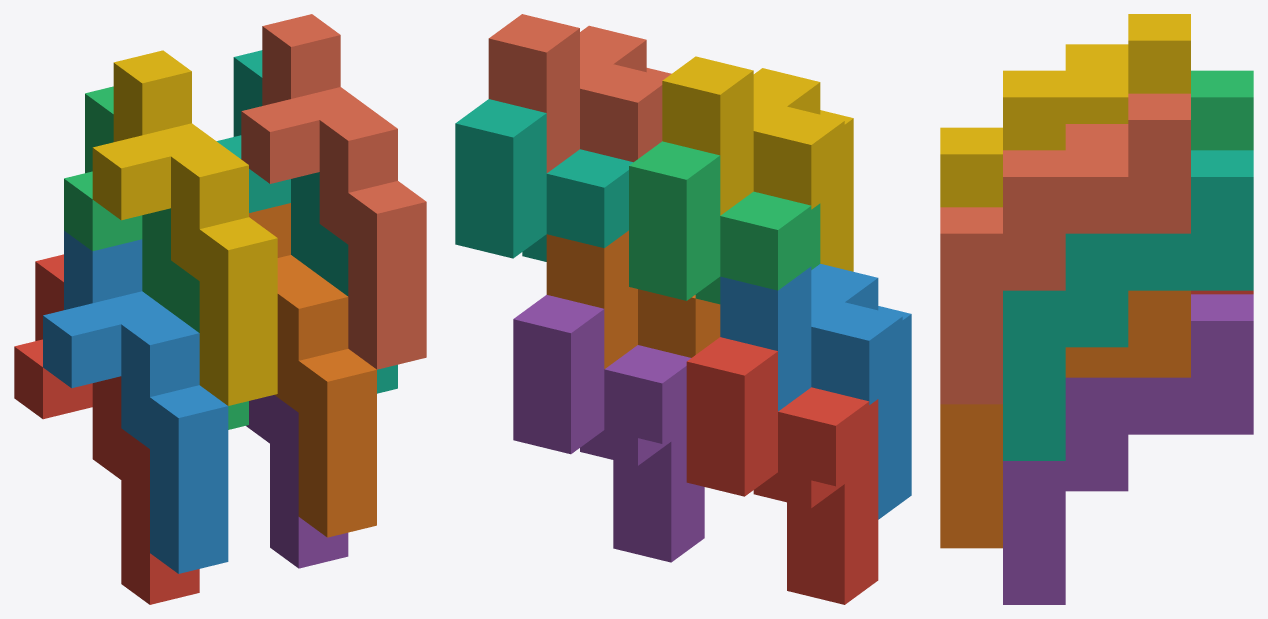
The model's file is tiling.obj.
3 renders of one model, left to right at view 1: azimuth 30°, elevation 25°; view 2: azimuth 150°, elevation 25°; view 3: azimuth 270°, elevation 25°, orthographic. The views are drawn at different scales.
Parts seen in each view (by area): view 1: copy_1_domain_8, copy_1_domain_4, copy_1_domain_2, copy_1_domain_6, copy_1_domain_1, copy_1_domain_3, copy_1_domain_7, copy_1_domain_5; view 2: copy_1_domain_1, copy_1_domain_5, copy_1_domain_4, copy_1_domain_2, copy_1_domain_3, copy_1_domain_7, copy_1_domain_8, copy_1_domain_6; view 3: copy_1_domain_8, copy_1_domain_7, copy_1_domain_5, copy_1_domain_4, copy_1_domain_6, copy_1_domain_3.
Part boxes in pixels (x1,y1,x2,y2): copy_1_domain_8: (241,14,426,369); copy_1_domain_4: (92,50,277,405); copy_1_domain_2: (43,230,228,573); copy_1_domain_6: (249,203,376,537); copy_1_domain_1: (14,254,199,604); copy_1_domain_3: (64,86,248,429); copy_1_domain_7: (216,50,397,393); copy_1_domain_5: (246,395,348,568); copy_1_domain_1: (686,337,878,604); copy_1_domain_5: (513,294,704,562); copy_1_domain_4: (662,56,853,271); copy_1_domain_2: (720,264,911,519); copy_1_domain_3: (629,141,820,304); copy_1_domain_7: (455,99,633,261); copy_1_domain_8: (488,14,671,172); copy_1_domain_6: (546,230,720,368); copy_1_domain_8: (940,93,1190,404); copy_1_domain_7: (1003,150,1253,460); copy_1_domain_5: (1003,294,1253,604); copy_1_domain_4: (940,14,1190,207); copy_1_domain_6: (940,290,1190,548); copy_1_domain_3: (1191,70,1253,150).
Bounding box in the file's own units: 6 × 9 × 5.
